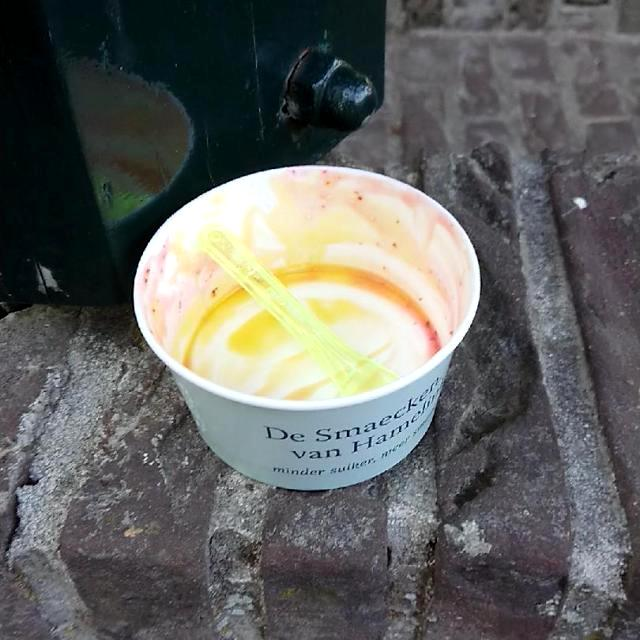Paper: (128, 160, 484, 496)
